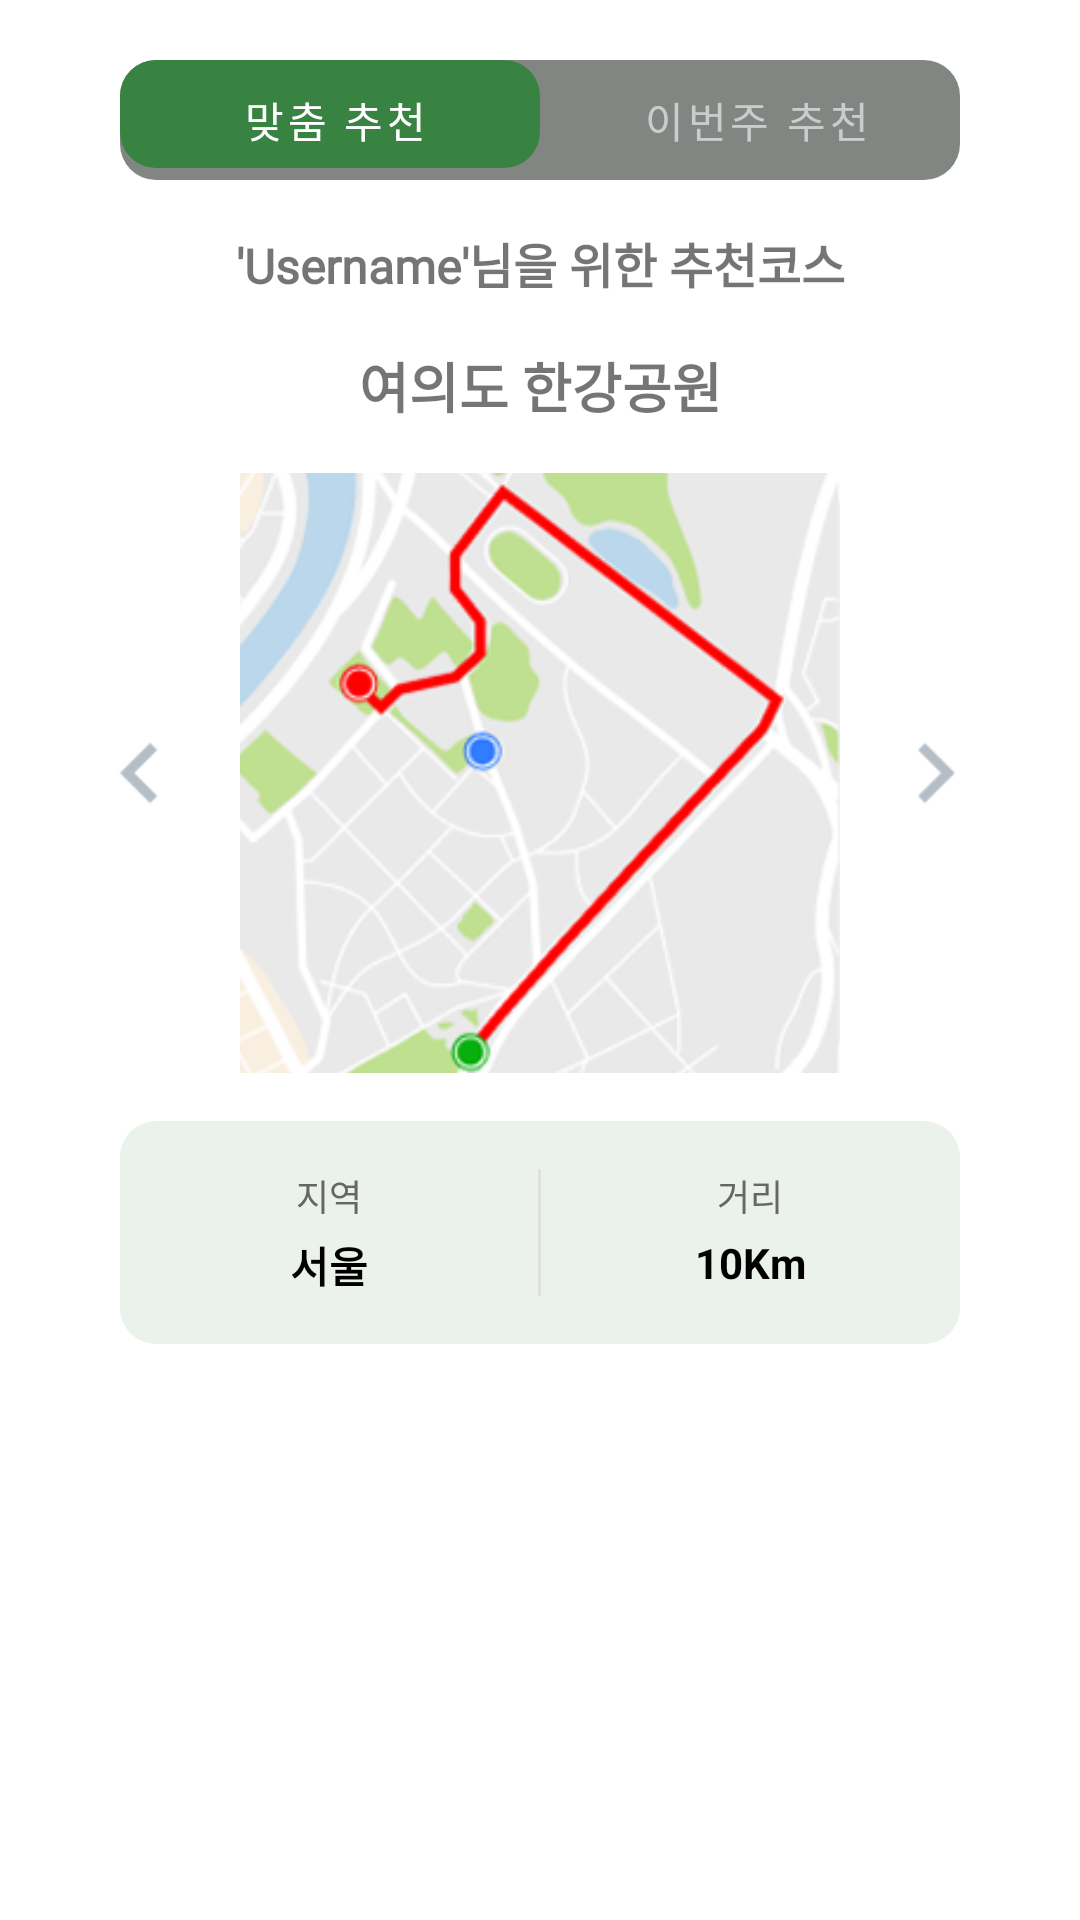

Point at icon controls on the screen. Image size 1080*1920, points as (x=x, y=y).
left calendar: (x=138, y=773)
right calendar: (x=936, y=773)
